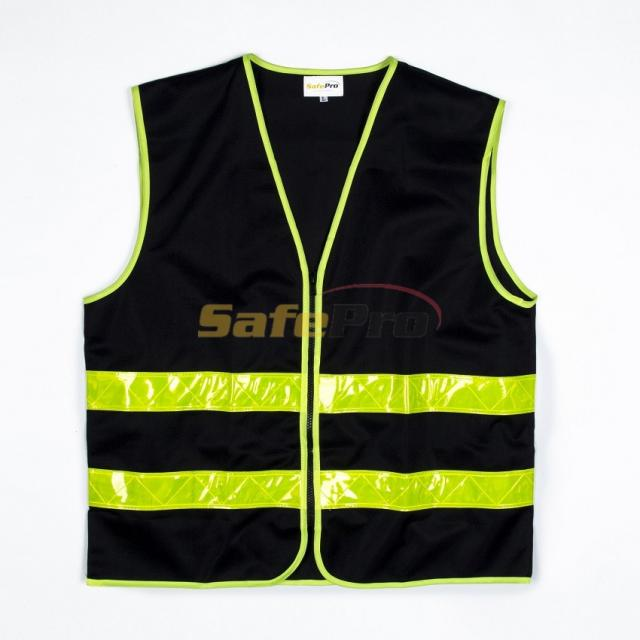Reflective-Jacket: (63, 25, 554, 605)
